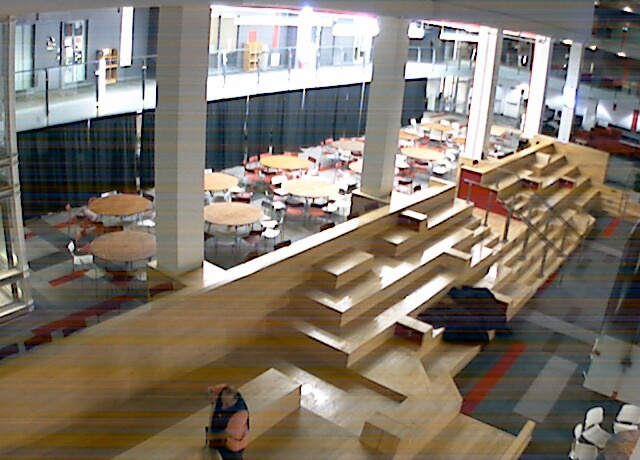head: (215, 383, 241, 409)
